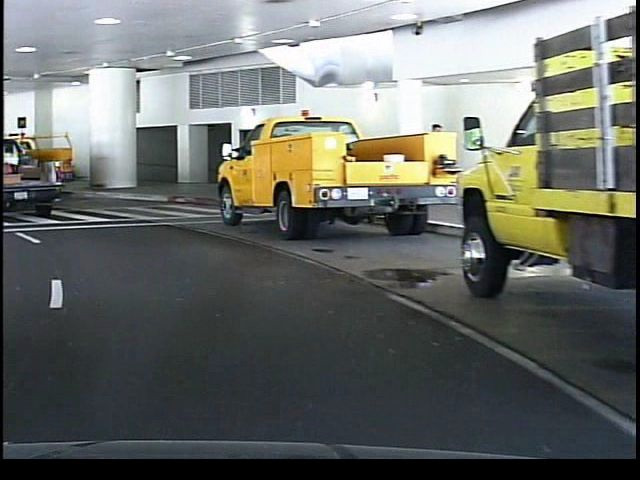person: (420, 117, 451, 211)
